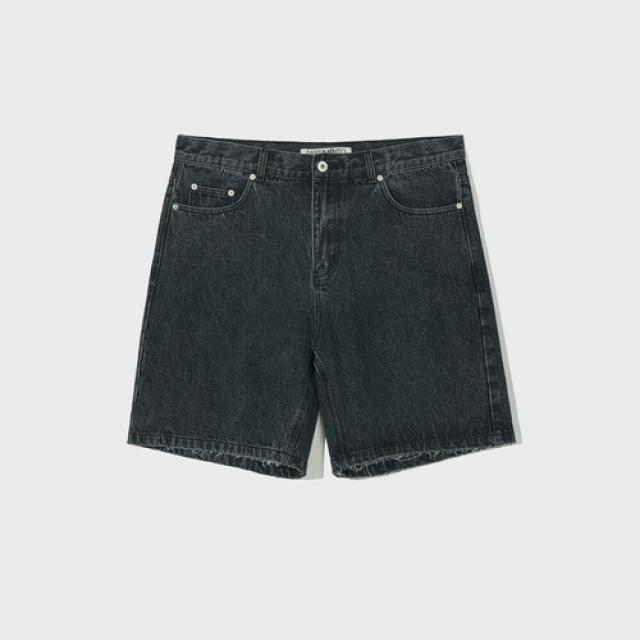dress: (122, 84, 512, 529)
